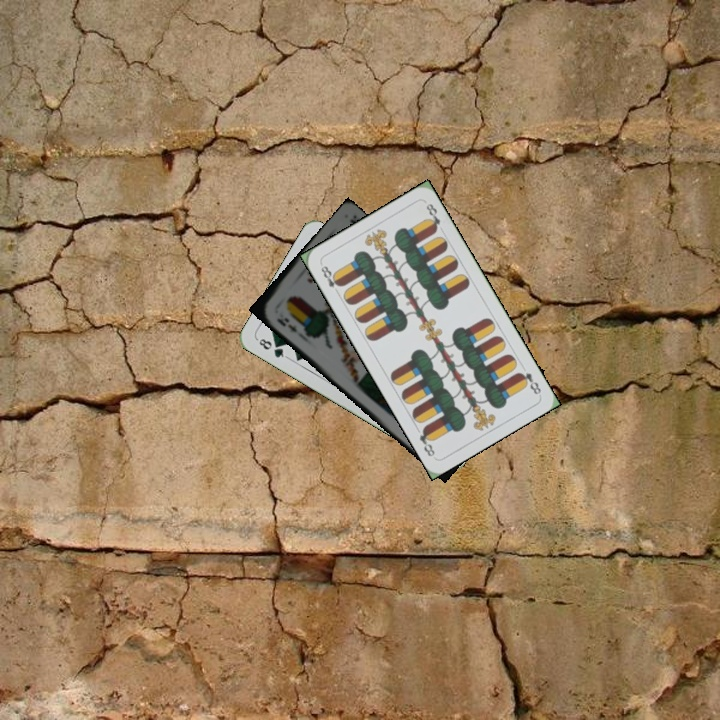E8: (317, 261, 344, 297), (514, 368, 544, 397)
EK: (273, 313, 300, 335)
G8: (253, 334, 290, 361)
